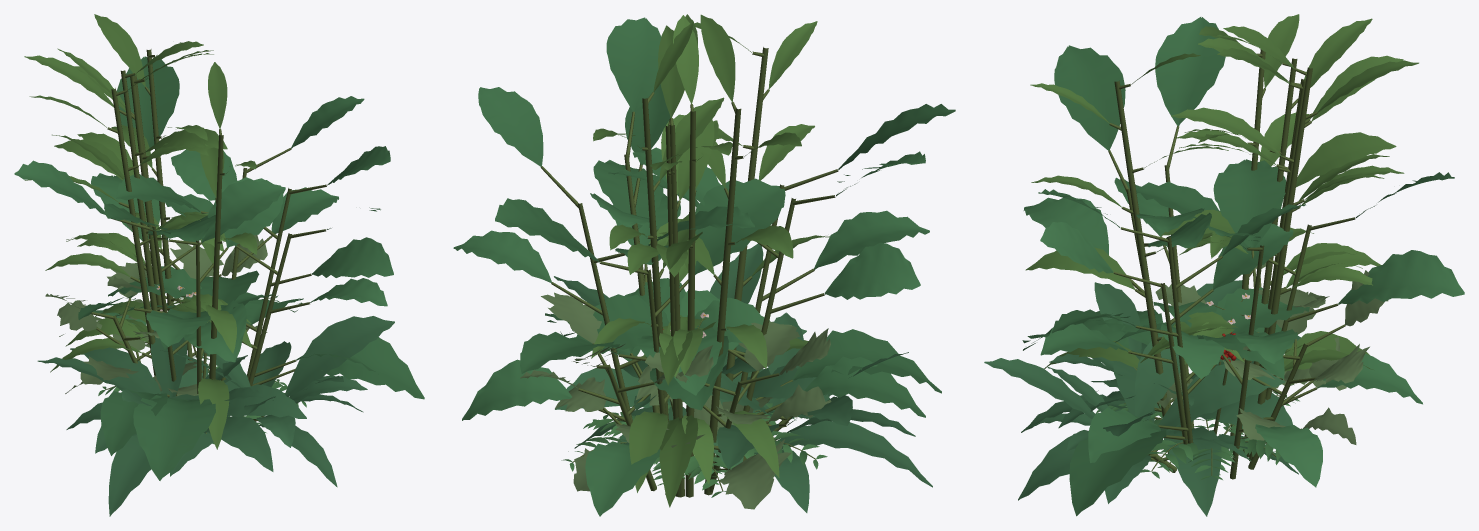
Rendered from forest-flora.glb.
3 views of the same model, side by side, from view 1: azimuth 30°, elevation 25°; view 2: azimuth 150°, elevation 25°; view 3: azimuth 270°, elevation 25° (orthographic). The views are drawn at different scales.
Visible parts, largest first — view 1: marantochloa0, marantochloa1, ginger1, ginger0, palisota0, palisota1, begonia0, begonia1; view 2: marantochloa0, marantochloa1, ginger0, ginger1, palisota0, begonia0, begonia1, palisota1, asplenium0, asplenium1; view 3: marantochloa1, marantochloa0, ginger1, ginger0, palisota1, palisota0, begonia1, begonia0, asplenium0, asplenium1.
Part boxes in pixels (<box>): marantochloa0: <box>91,56,393,480</box>; marantochloa1: <box>14,96,424,455</box>; ginger1: <box>24,41,257,449</box>; ginger0: <box>24,14,251,375</box>; palisota0: <box>37,330,306,516</box>; palisota1: <box>153,316,394,487</box>; begonia0: <box>45,262,198,396</box>; begonia1: <box>107,219,267,391</box>; marantochloa0: <box>495,17,955,516</box>; marantochloa1: <box>453,84,925,422</box>; ginger0: <box>591,14,801,497</box>; ginger1: <box>627,14,829,507</box>; palisota0: <box>574,312,932,512</box>; begonia0: <box>636,321,831,509</box>; begonia1: <box>520,292,734,491</box>; palisota1: <box>554,243,829,469</box>; asplenium0: <box>561,400,827,497</box>; asplenium1: <box>583,403,807,486</box>; marantochloa1: <box>1040,17,1322,516</box>; marantochloa0: <box>1022,45,1464,462</box>; ginger1: <box>1025,18,1404,457</box>; ginger0: <box>1140,14,1418,461</box>; palisota1: <box>984,332,1298,503</box>; palisota0: <box>1021,280,1300,516</box>; begonia1: <box>1193,270,1388,469</box>; begonia0: <box>1155,262,1346,408</box>; asplenium0: <box>1140,373,1299,478</box>; asplenium1: <box>1095,398,1282,479</box>.
Bounding box in the file's own units: 1.92 × 2.02 × 1.98.
